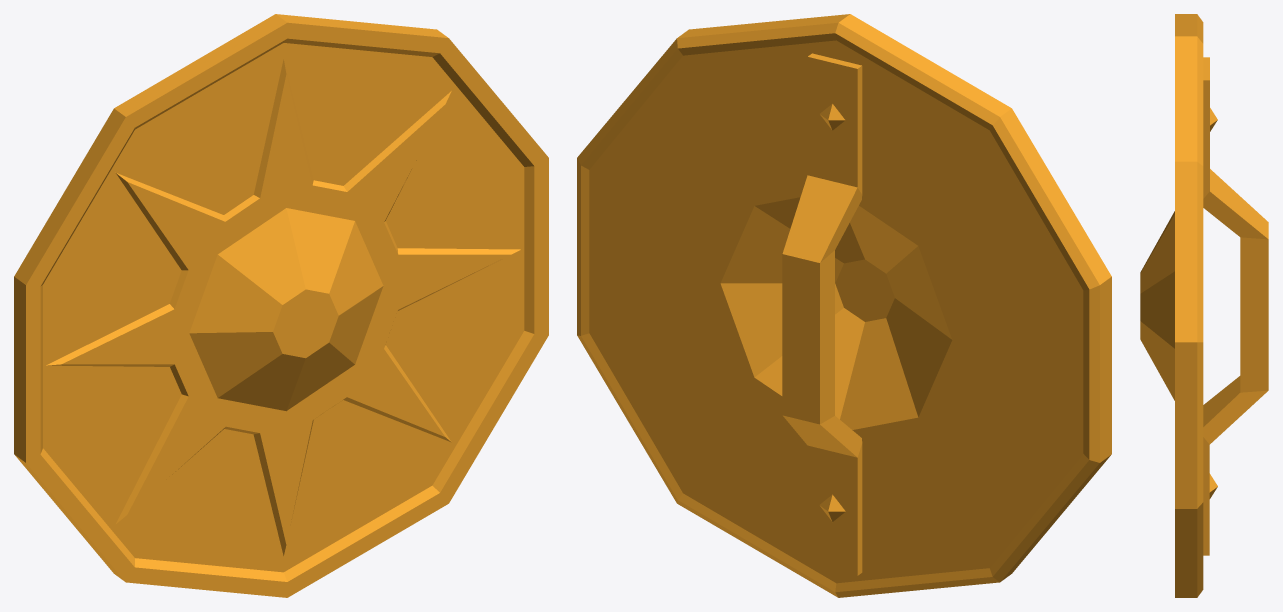
Rendered from SM_Shield_Buckler_A.fbx.
3 views of the same model, side by side, from view 1: azimuth 30°, elevation 25°; view 2: azimuth 150°, elevation 25°; view 3: azimuth 270°, elevation 25° (orthographic). The views are drawn at different scales.
Parts seen in each view (by area): view 1: shield-buckler-a; view 2: shield-buckler-a; view 3: shield-buckler-a.
Part boxes in pixels (x1,y1,x2,y2): shield-buckler-a: (14, 14, 548, 597); shield-buckler-a: (577, 14, 1111, 597); shield-buckler-a: (1140, 14, 1268, 597).
Bounding box in the file's own units: 0.3234 × 0.34 × 0.0733.
